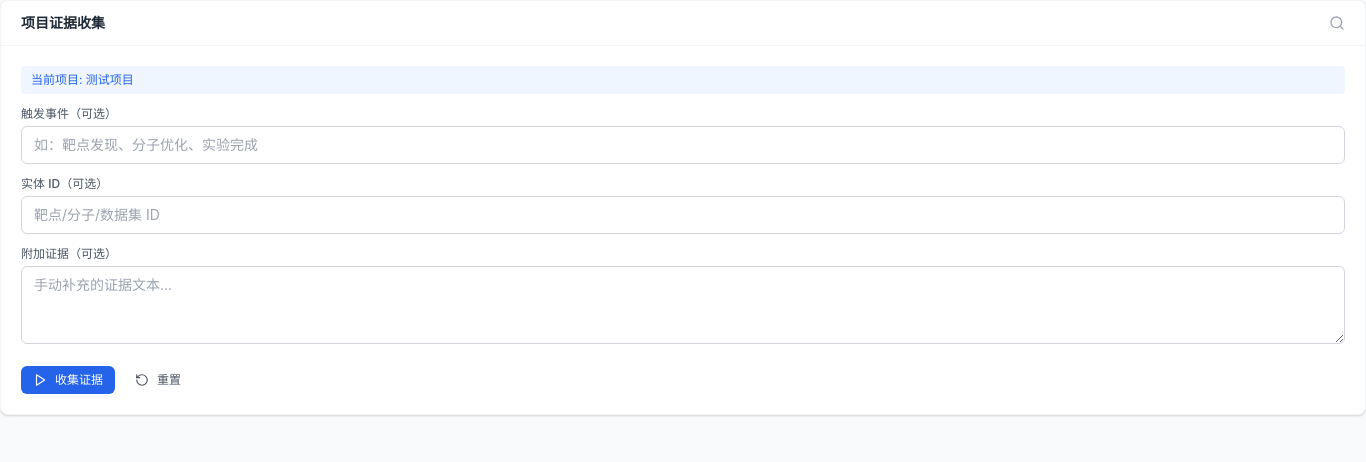
it: EvidenceCollectPanel › 空表单提交显示验证错误
The image size is (1366, 462).
What coordinates should you click on to do the following:
click the button "收集证据"
I would click on:
 (68, 380)
Its box is x1=21 y1=366 x2=115 y2=394.
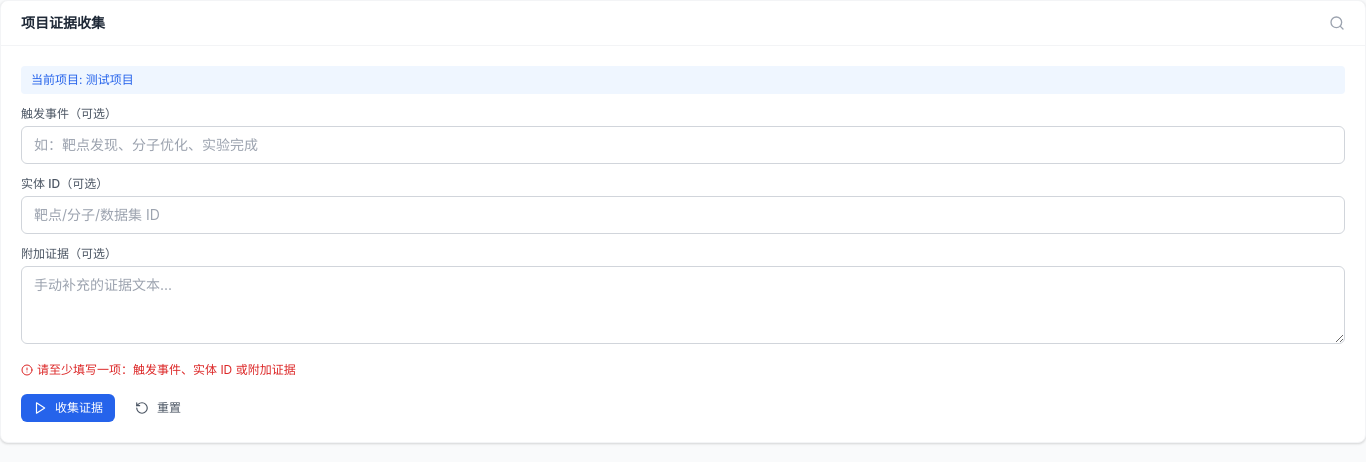
Expected: the text "请至少填写一项：触发事件、实体 ID 或附加证据" is shown, x1=37 y1=362 x2=296 y2=378
